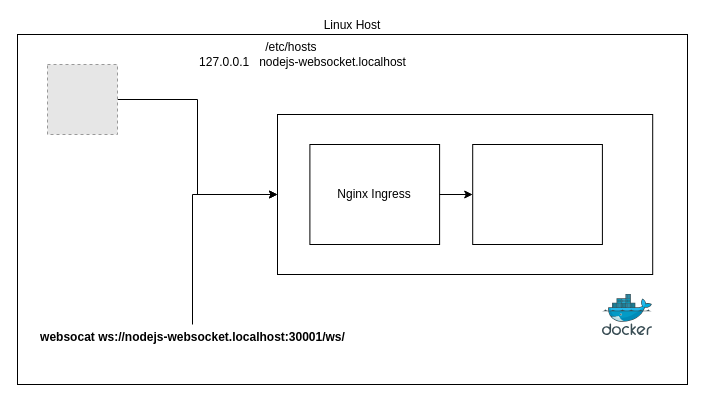
This 705x402 diagram has some shape labels left out. Grey dashed boxes stand in for pictures. The shapes that lost their labels are listed below. From the top down, each one's box as (x1, y1, x2, y2) in pixels, then its label:
(276, 114, 653, 274): Kubernetes Node (docker kind)
(472, 144, 602, 244): node ws-server
